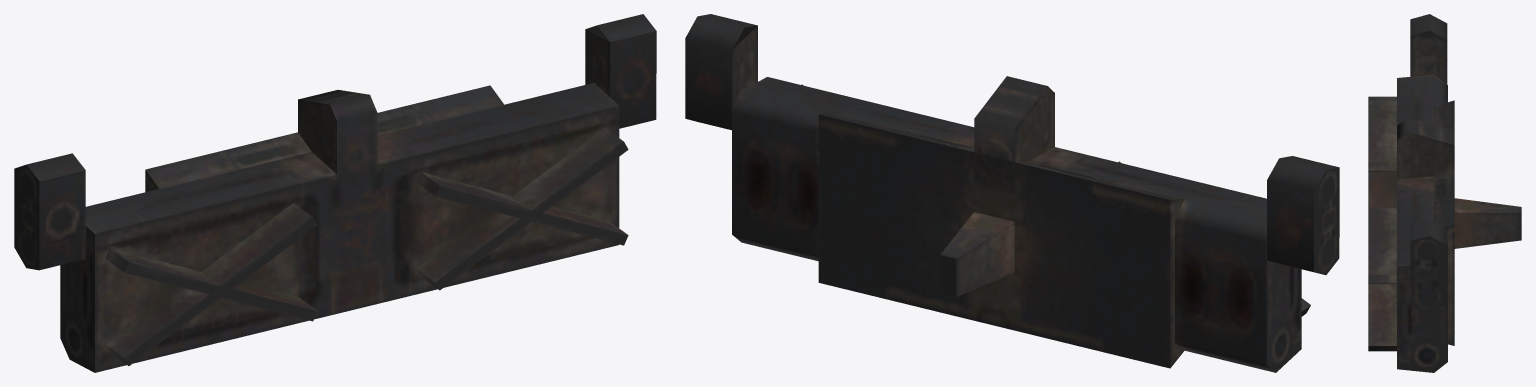
3 views of the same model, side by side, from view 1: azimuth 30°, elevation 25°; view 2: azimuth 150°, elevation 25°; view 3: azimuth 270°, elevation 25° (orthographic). The views are drawn at different scales.
Parts seen in each view (by area): view 1: set_0_group_0; view 2: set_0_group_0; view 3: set_0_group_0.
Boxes of the visible parts, x1,y1,x2,y2 form: set_0_group_0: (14, 14, 656, 372); set_0_group_0: (685, 14, 1339, 372); set_0_group_0: (1368, 14, 1521, 372).
Size of the model in its own units: 0.5744 by 0.1926 by 0.1677.
Materials: 1 (1 with a texture image).
